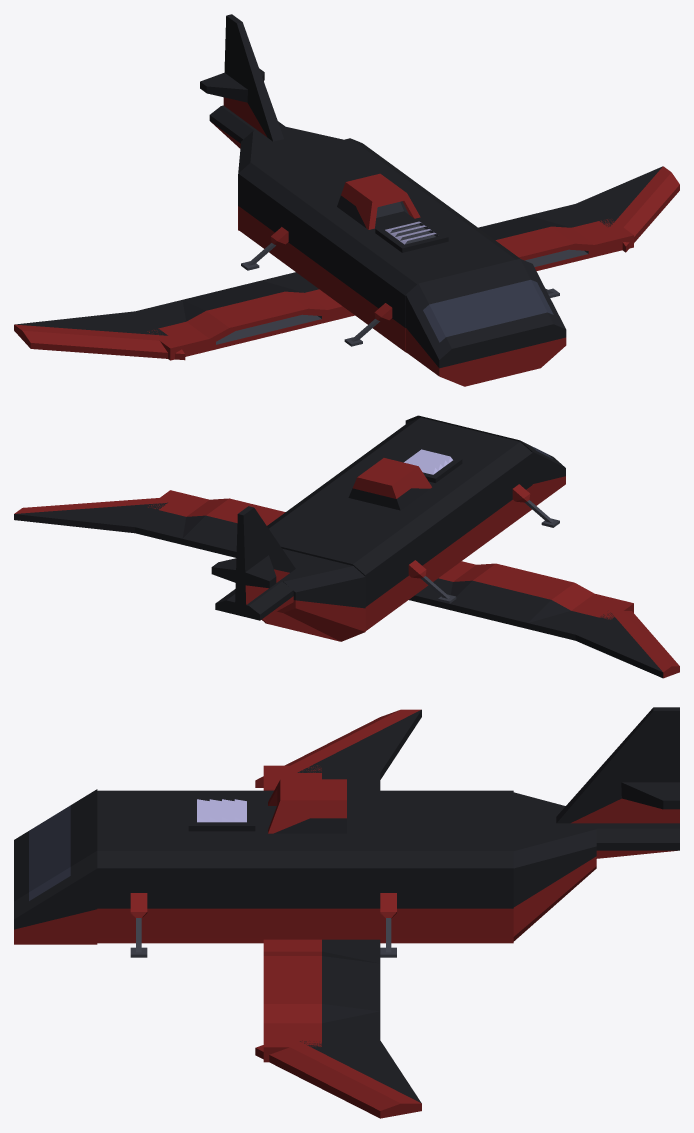
The model's file is cargoplane.fbx.
3 renders of one model, top to bottom at view 1: azimuth 30°, elevation 25°; view 2: azimuth 150°, elevation 25°; view 3: azimuth 270°, elevation 25°, orthographic. The views are drawn at different scales.
Parts seen in each view (by area): view 1: mergedBlocks; view 2: mergedBlocks; view 3: mergedBlocks.
Part boxes in pixels (x1,y1,x2,y2): mergedBlocks: (14, 14, 679, 386); mergedBlocks: (14, 415, 679, 678); mergedBlocks: (14, 707, 679, 1118).
Size of the model in its own units: 112 by 27.7 by 80.
